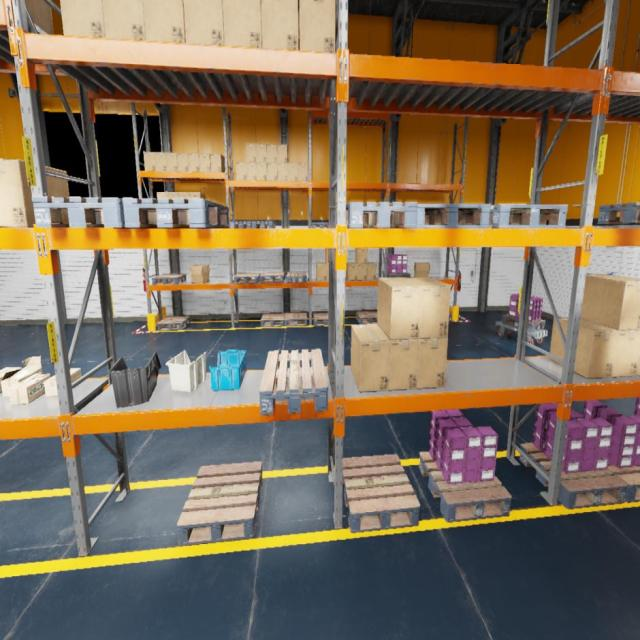box: (0, 158, 69, 227), (549, 317, 619, 379), (581, 319, 639, 377), (581, 274, 639, 330), (404, 276, 451, 338), (377, 277, 422, 340), (378, 324, 420, 391), (351, 323, 390, 392), (299, 0, 336, 52), (261, 0, 299, 50), (223, 0, 262, 48), (183, 0, 224, 45), (143, 0, 185, 43), (101, 0, 144, 39), (60, 0, 105, 37), (1, 356, 42, 396), (418, 337, 448, 389), (8, 373, 51, 405), (44, 368, 82, 397), (25, 0, 53, 34), (0, 367, 21, 393), (190, 264, 210, 283), (165, 152, 178, 172), (210, 154, 224, 172), (154, 152, 167, 171), (414, 262, 430, 277), (177, 152, 189, 172), (355, 262, 367, 281), (144, 152, 156, 171), (347, 262, 358, 281), (200, 153, 211, 172), (188, 153, 199, 172), (256, 144, 267, 162), (236, 162, 247, 180), (355, 248, 368, 263), (298, 163, 308, 182), (277, 144, 287, 163), (267, 144, 277, 163), (246, 143, 256, 162), (267, 163, 277, 181), (288, 164, 298, 181), (278, 164, 288, 181), (257, 163, 267, 180), (246, 163, 256, 180), (367, 262, 376, 280), (317, 263, 326, 281), (636, 354, 640, 376), (189, 193, 206, 198), (178, 192, 190, 199), (156, 192, 168, 199), (168, 192, 179, 199), (326, 248, 328, 264), (327, 264, 328, 281)
pallets: (177, 461, 262, 546), (520, 443, 627, 509), (419, 451, 511, 522), (343, 454, 420, 533), (260, 349, 328, 415), (32, 197, 148, 227), (123, 198, 230, 228), (489, 204, 568, 228), (346, 202, 418, 228), (417, 204, 491, 228), (608, 462, 640, 502), (598, 202, 640, 224), (502, 314, 544, 333), (157, 316, 190, 330), (152, 274, 186, 284), (260, 314, 284, 327), (233, 273, 260, 284), (356, 311, 378, 324), (285, 313, 307, 326), (260, 272, 285, 282), (313, 312, 328, 326), (287, 272, 306, 282), (384, 272, 411, 277), (252, 222, 275, 227), (230, 222, 252, 227), (312, 222, 329, 227), (449, 314, 451, 322)
